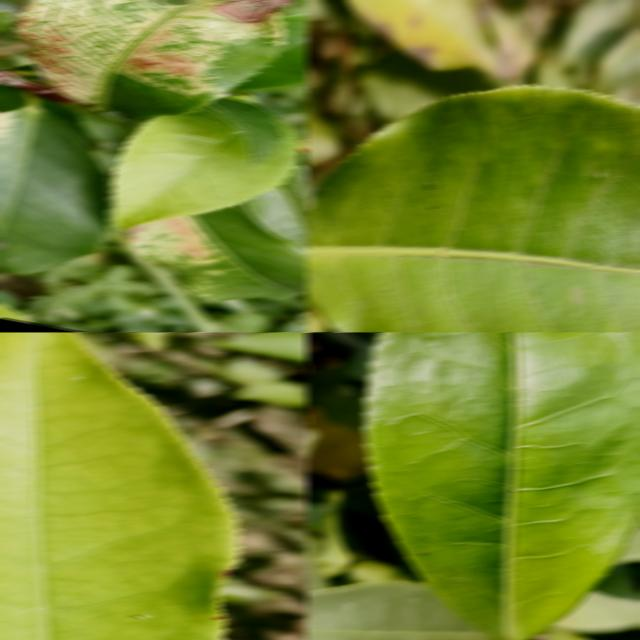Leaf: (364, 332, 640, 640), (306, 85, 640, 332), (0, 332, 238, 640), (16, 0, 290, 116), (110, 106, 298, 227), (0, 101, 109, 273), (127, 205, 308, 300), (345, 0, 529, 78), (306, 579, 499, 640), (357, 50, 494, 121), (236, 12, 308, 89), (204, 97, 284, 166), (241, 164, 308, 242), (559, 0, 632, 65), (210, 332, 308, 363), (306, 108, 340, 167)
